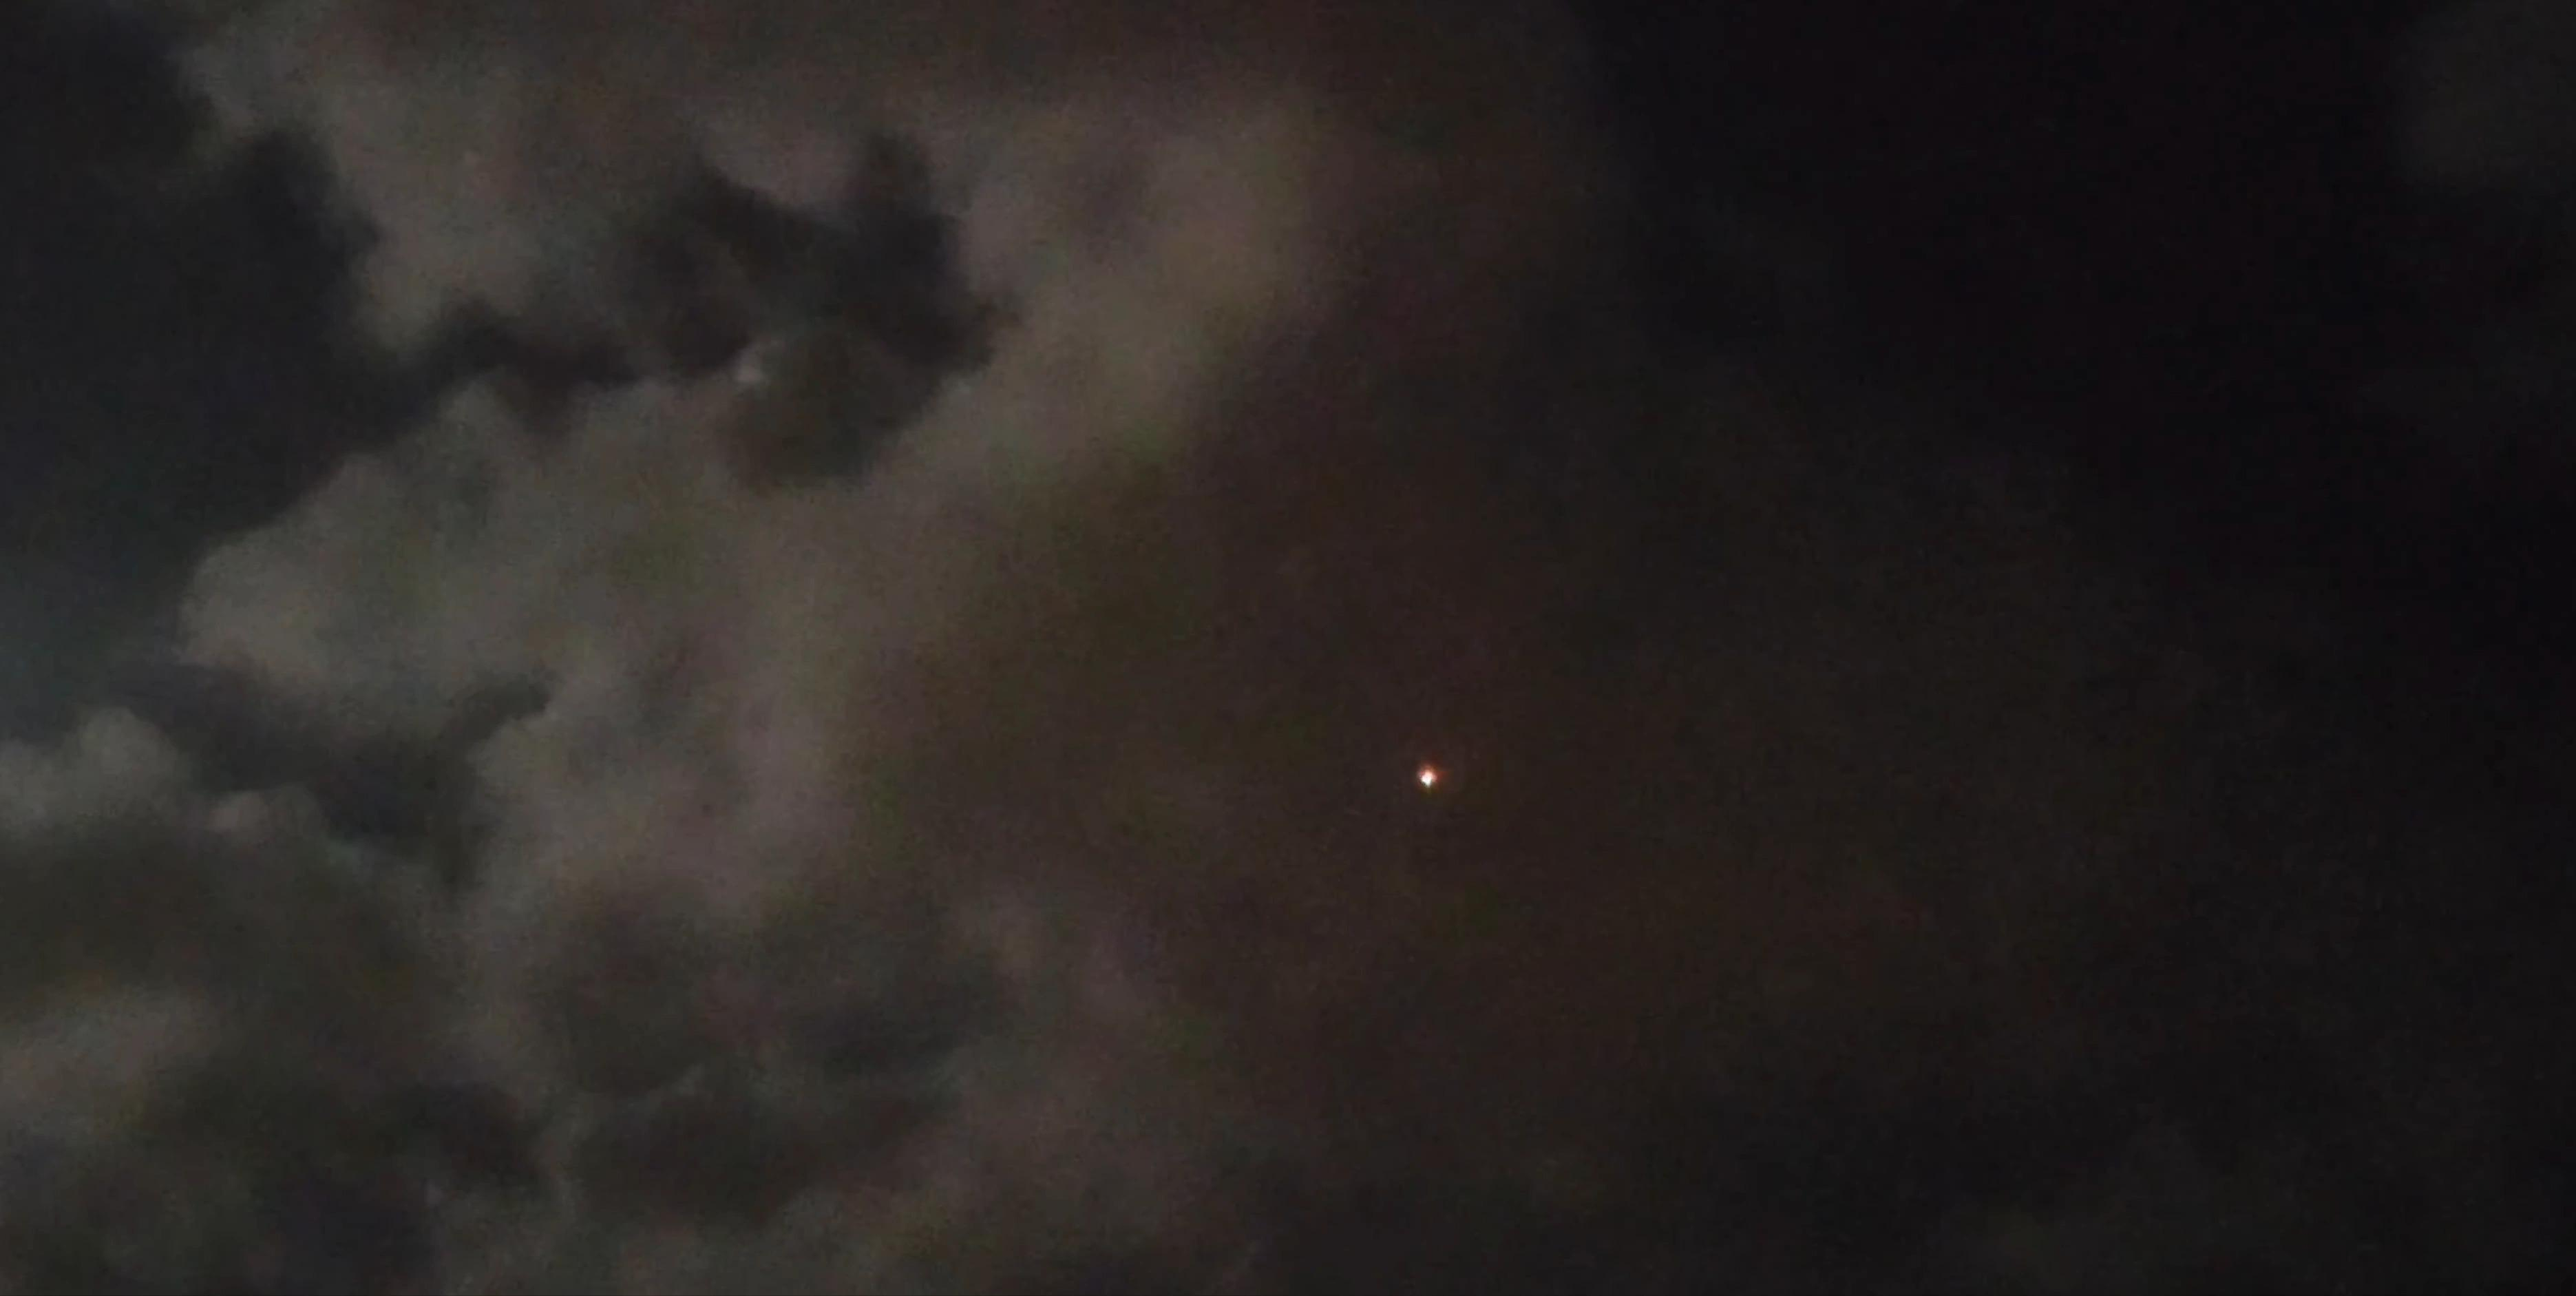Plane: (1396, 742, 1462, 807)
